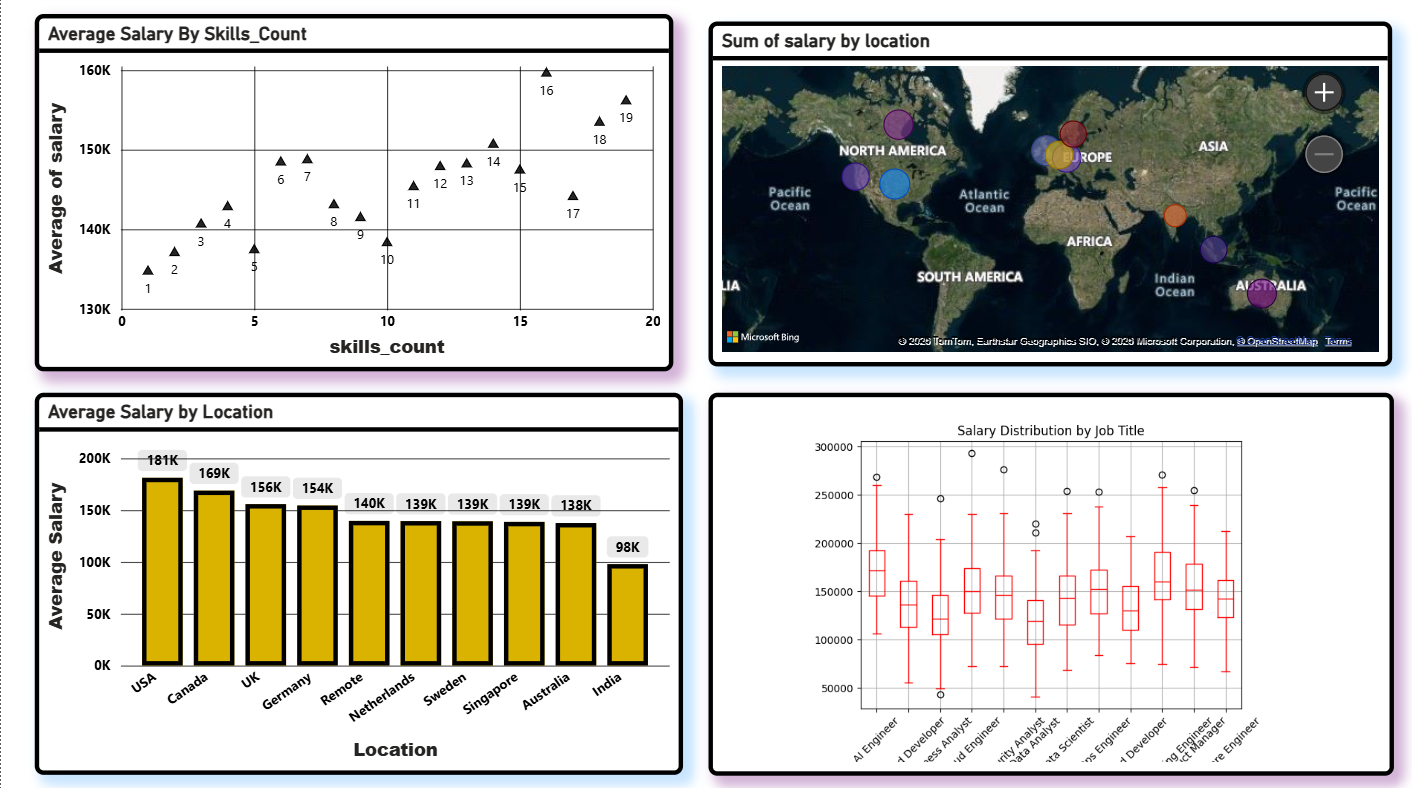

The dashboard page shown, as its layout file describes it:
{"tool":"powerbi","page":{"name":"Page 2","canvas":[1280,720],"ordinal":1},"visuals":[{"type":"scatterChart","title":"Average  Salary By Skills_Count","fields":{"Y":["Avg(job_salary_prediction_dataset.salary)"],"X":["job_salary_prediction_dataset.skills_count"]},"box":[30.2,18.6,577.9,323.3],"z":0},{"type":"columnChart","fields":{"Category":["job_salary_prediction_dataset.location"],"Y":["Avg(job_salary_prediction_dataset.salary)"]},"box":[30.2,360.5,586,345.3],"z":1000},{"type":"pythonVisual","fields":{"Values":["job_salary_prediction_dataset.job_title","job_salary_prediction_dataset.salary"]},"box":[640.2,360.7,619.9,346.4],"z":2000},{"type":"map","fields":{"Size":["Sum(job_salary_prediction_dataset.salary)"],"Category":["job_salary_prediction_dataset.location"]},"box":[639.5,24.4,618.6,311.6],"z":3000}]}

Visuals, with their boxes in screenshot pixels (x1, y1, x2, y2), scaled from the page's 1280x720 canvas onto the 1412x788 screenshot:
"Average  Salary By Skills_Count" scatterChart: (33,20,671,374)
columnChart - job_salary_prediction_dataset.location x Avg(job_salary_prediction_dataset.salary): (33,395,680,772)
pythonVisual - job_salary_prediction_dataset.job_title x job_salary_prediction_dataset.salary: (706,395,1390,774)
map - Sum(job_salary_prediction_dataset.salary) x job_salary_prediction_dataset.location: (705,27,1388,368)
